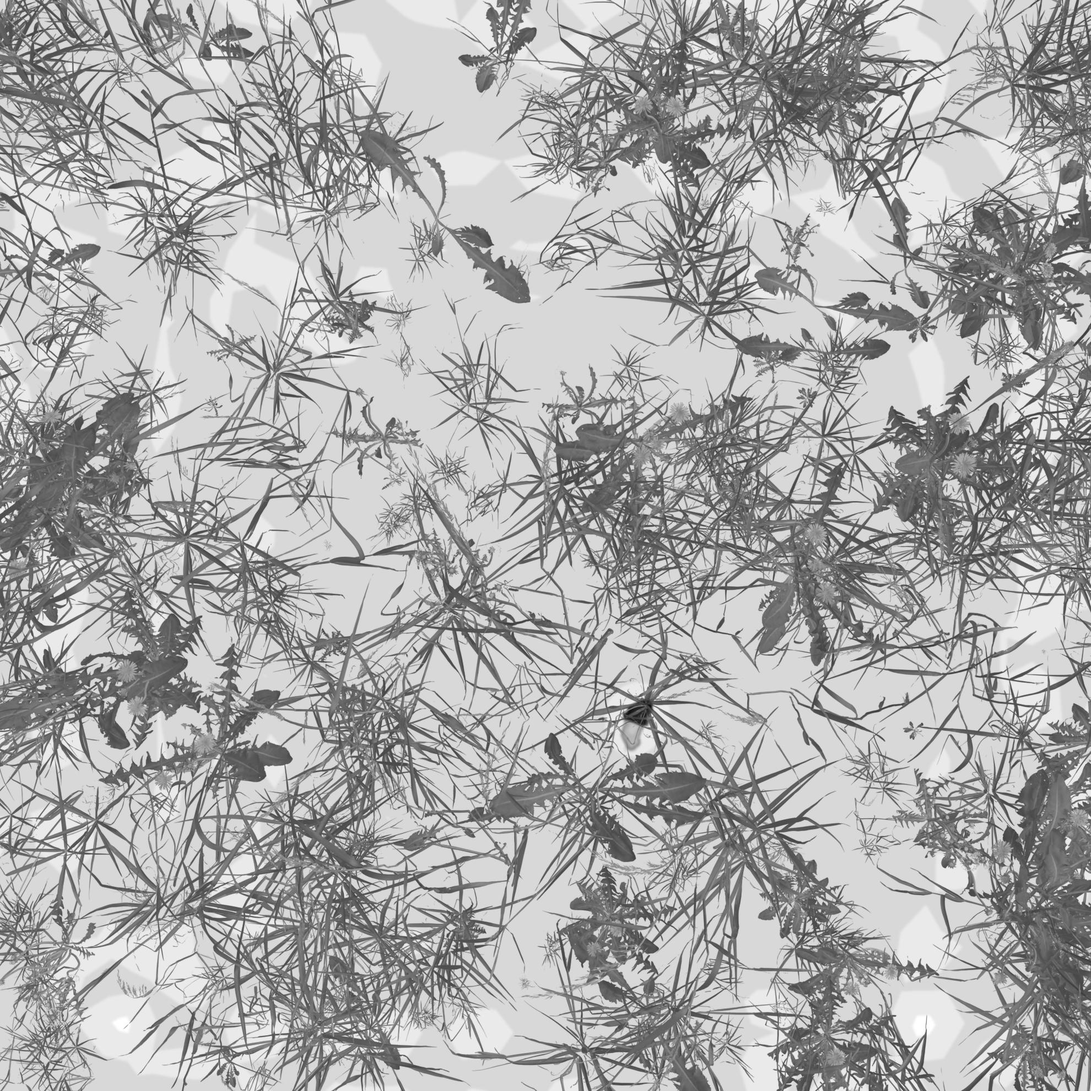landmine: (620, 699, 658, 751)
